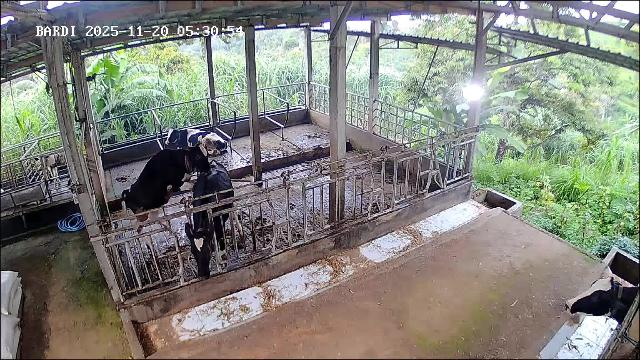mounting: (122, 145, 210, 253)
